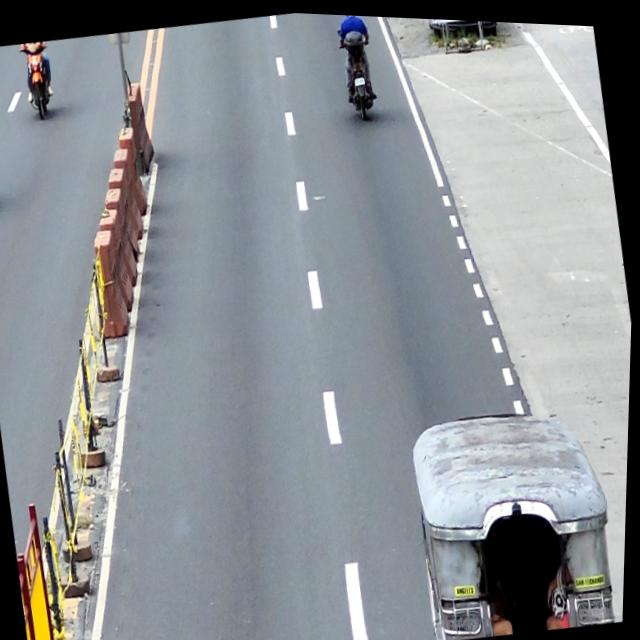Jeep: (406, 388, 631, 640)
License-Plate: (354, 72, 366, 83)
Motorcycle: (335, 19, 381, 118), (19, 40, 57, 122)
